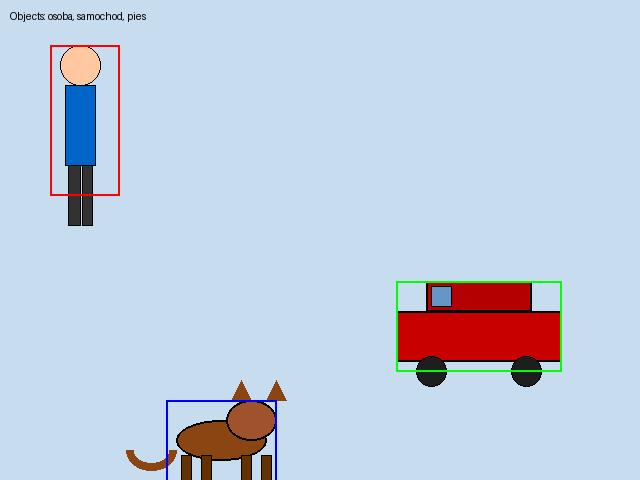osoba: (50, 45, 119, 195)
pies: (166, 400, 276, 480)
samochod: (396, 281, 561, 371)
